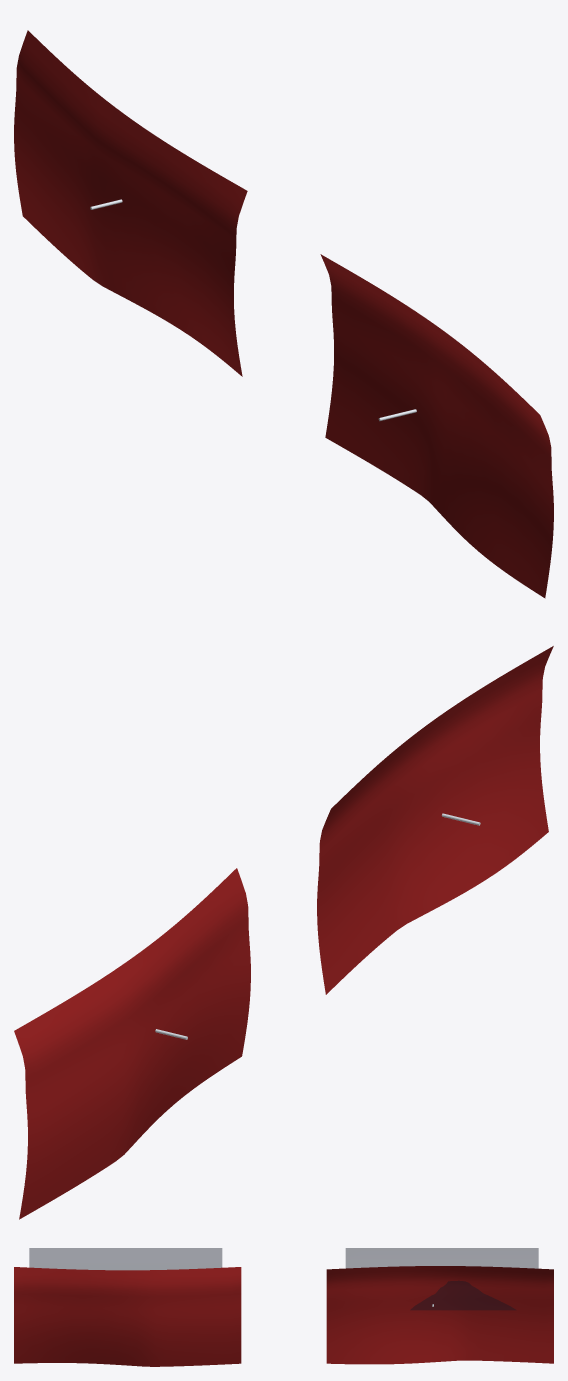
Rendered from doors_butterfly_pair.glb.
3 renders of one model, top to bottom at view 1: azimuth 30°, elevation 25°; view 2: azimuth 150°, elevation 25°; view 3: azimuth 270°, elevation 25°, orthographic. The views are drawn at different scales.
Parts seen in each view (by area): view 1: Butterfly_Door_Assembly_LH, Butterfly_Door_Assembly_RH; view 2: Butterfly_Door_Assembly_LH, Butterfly_Door_Assembly_RH; view 3: Butterfly_Door_Assembly_RH, Butterfly_Door_Assembly_LH.
Part boxes in pixels (left/top/right/bottom): Butterfly_Door_Assembly_LH: left=14, top=30, right=247, bottom=376; Butterfly_Door_Assembly_RH: left=320, top=254, right=553, bottom=598; Butterfly_Door_Assembly_LH: left=14, top=868, right=250, bottom=1219; Butterfly_Door_Assembly_RH: left=317, top=646, right=553, bottom=994; Butterfly_Door_Assembly_RH: left=14, top=1248, right=241, bottom=1366; Butterfly_Door_Assembly_LH: left=326, top=1248, right=553, bottom=1364.
Bounding box in the file's own units: 0.2304 × 0.6785 × 2.97.
